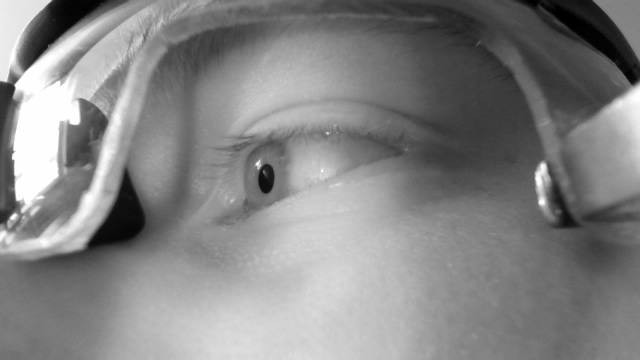pupil: (257, 163, 276, 195)
